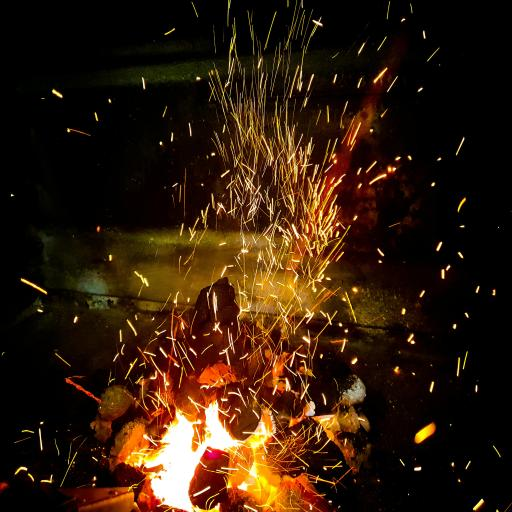campfire: (92, 273, 345, 512)
